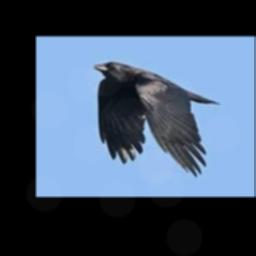Crow: (93, 60, 221, 178)
